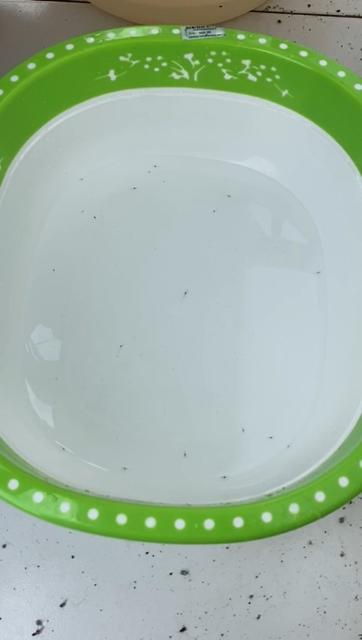benur: (315, 266, 324, 277), (130, 185, 140, 193), (180, 452, 190, 460), (160, 176, 168, 185), (60, 446, 70, 453), (224, 193, 232, 201), (239, 428, 248, 435), (118, 342, 125, 350), (79, 176, 86, 183), (181, 289, 188, 296), (285, 443, 292, 450), (212, 207, 218, 214), (79, 208, 86, 214), (120, 465, 126, 472), (223, 473, 230, 479), (270, 435, 276, 442), (152, 163, 158, 169), (146, 170, 152, 176), (51, 267, 57, 273), (92, 214, 97, 220)
